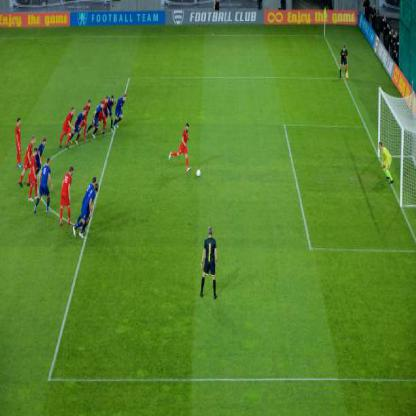penalty kick: (152, 47, 416, 230)
